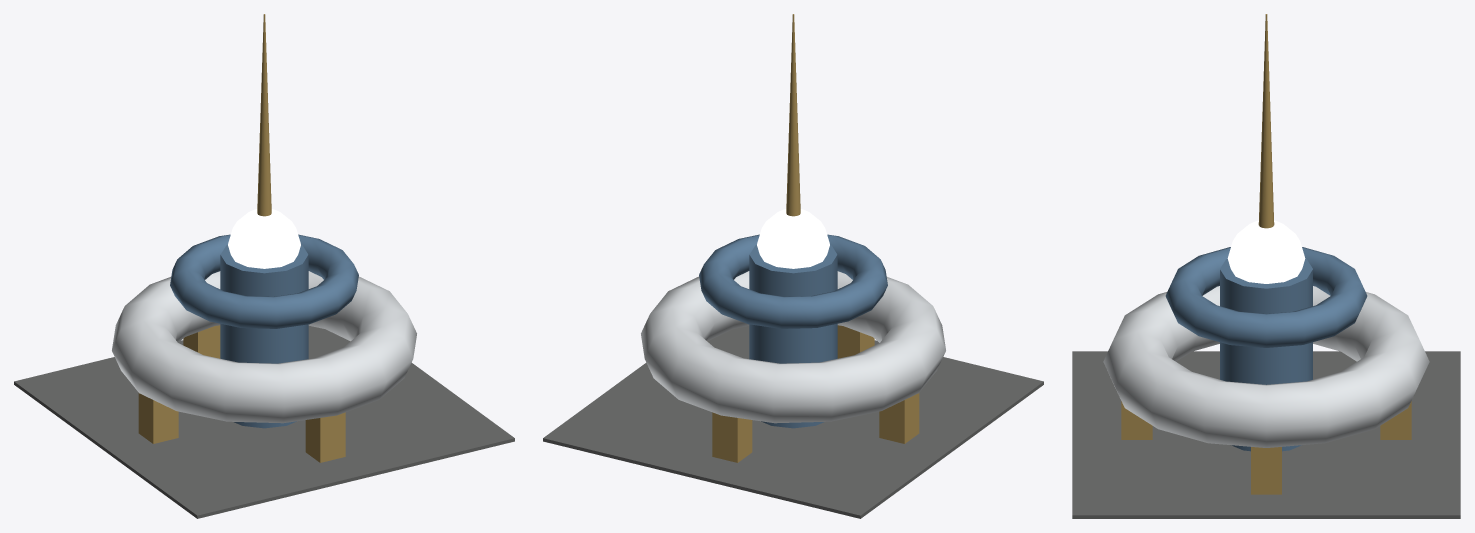
File: bld_special_power_plant_a10.glb
3 renders of one model, left to right at view 1: azimuth 30°, elevation 25°; view 2: azimuth 150°, elevation 25°; view 3: azimuth 270°, elevation 25°, orthographic. The views are drawn at different scales.
Visible parts, largest first — view 1: body; view 2: body; view 3: body.
Boxes of the visible parts, x1,y1,x2,y2 form: body: [14, 14, 514, 518]; body: [543, 14, 1043, 518]; body: [1072, 14, 1460, 518].
Size of what is drawn, in the model's own units: 15 by 18 by 15.
